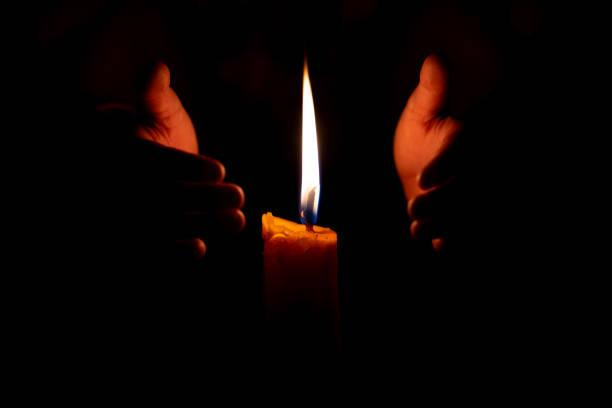Fire: (288, 41, 332, 226)
